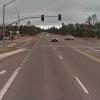Traffic light: (36, 8, 67, 25)
